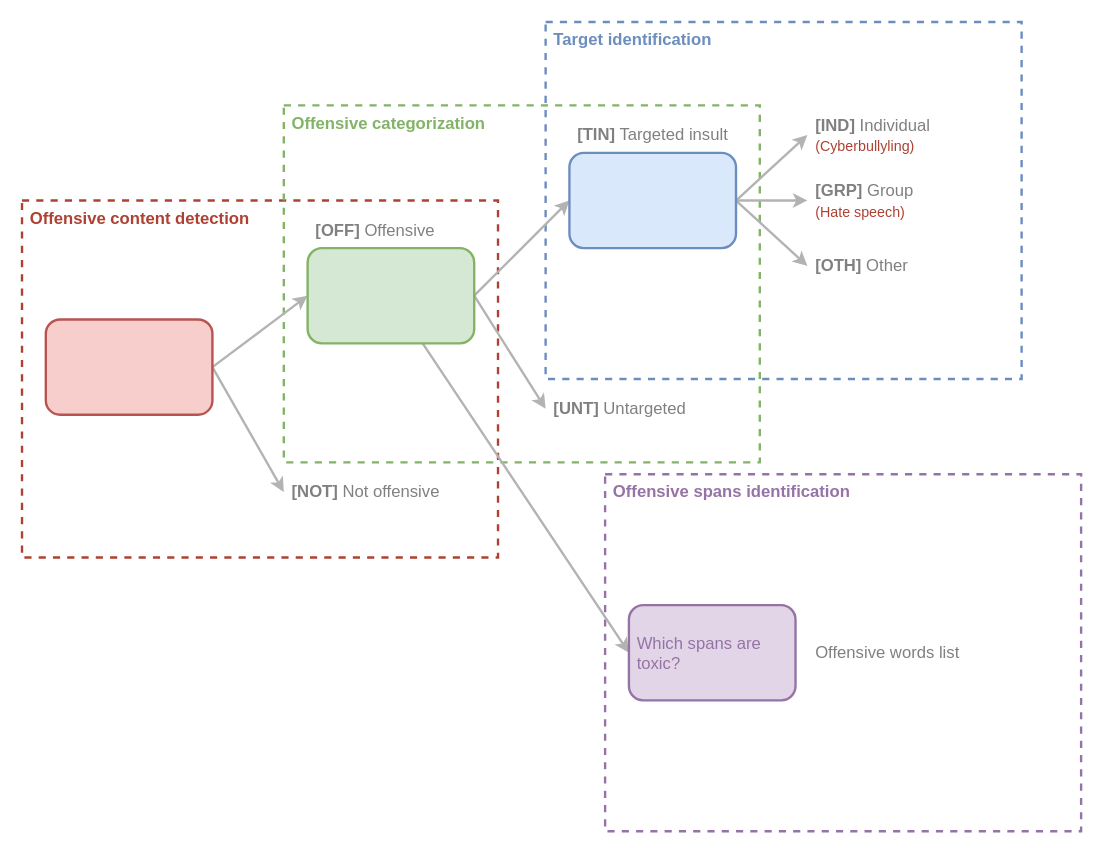
This 1102x852 diagram has some shape labels left out. The centre of each missing label's shape, as x and y in pixels:
"Is it offensive?" belongs at [128,366].
"Is the offensive text targeted?" belongs at [390,295].
"What is the target of the offense?" belongs at [652,200].
